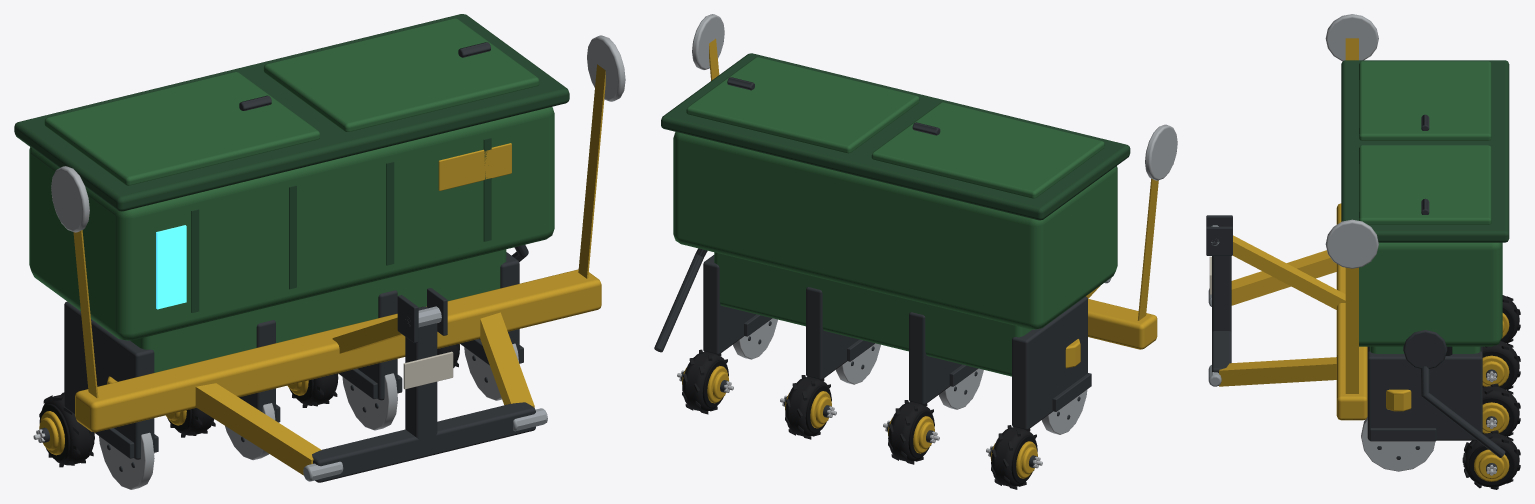
File: im_seeder.glb
3 renders of one model, left to right at view 1: azimuth 30°, elevation 25°; view 2: azimuth 150°, elevation 25°; view 3: azimuth 270°, elevation 25°, orthographic. The views are drawn at different scales.
Visible parts, largest first — view 1: block.007, block.006, block.008, block.009, block.010, block.011, block.001, block.018, bar, block.002, bar.001, block.017 (+20 smaller); view 2: block.007, block.011, block.008, block.009, block.010, block.018, block.027, block.006, block.024, block.021, cyl.135, cyl (+11 smaller); view 3: block.007, block.009, block.010, block.008, block.027, bar.001, block.006, bar.002, cyl, bar, cyl.105, bar.084 (+19 smaller).
Boxes of the visible parts, x1,y1,x2,y2 form: block.007: (29,107,554,340); block.006: (75,269,601,432); block.008: (14,14,569,211); block.009: (44,72,320,185); block.010: (263,18,539,131); block.011: (130,249,506,372); block.001: (312,402,535,482); block.018: (64,301,154,459); bar: (195,383,321,475); block.002: (405,306,437,447); bar.001: (480,312,534,407); block.017: (156,225,186,309); block.007: (673,132,1117,329); block.011: (714,252,1031,376); block.008: (661,53,1130,220); block.009: (871,102,1104,198); block.010: (686,57,919,153); block.018: (1012,296,1087,430); block.027: (703,255,755,354); block.006: (1088,299,1157,349); block.024: (806,287,858,379); block.021: (909,312,961,404); cyl.135: (1145,124,1177,180); cyl: (692,14,724,69); block.007: (1359,242,1502,346); block.009: (1359,61,1491,140); block.010: (1359,145,1491,224); block.008: (1341,60,1509,242); block.027: (1367,351,1482,440); bar.001: (1219,357,1336,386); block.006: (1336,203,1367,420); bar.002: (1232,235,1345,309); cyl: (1325,219,1378,268); bar: (1231,250,1336,305); cyl.105: (1361,417,1435,471); bar.084: (1345,267,1358,393).
Bounding box in the file's own units: 2.23 × 1.49 × 1.42.
